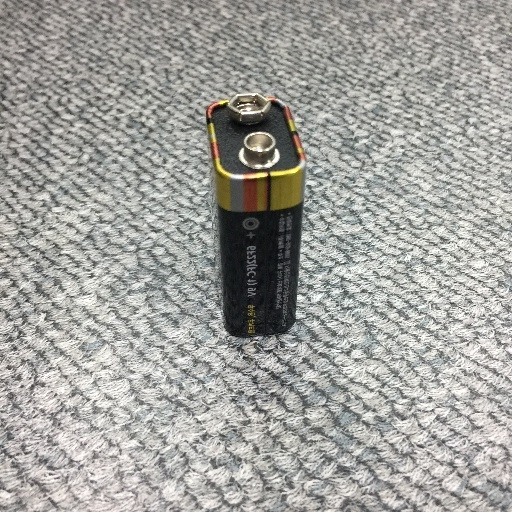Battery_3: (195, 77, 319, 362)
